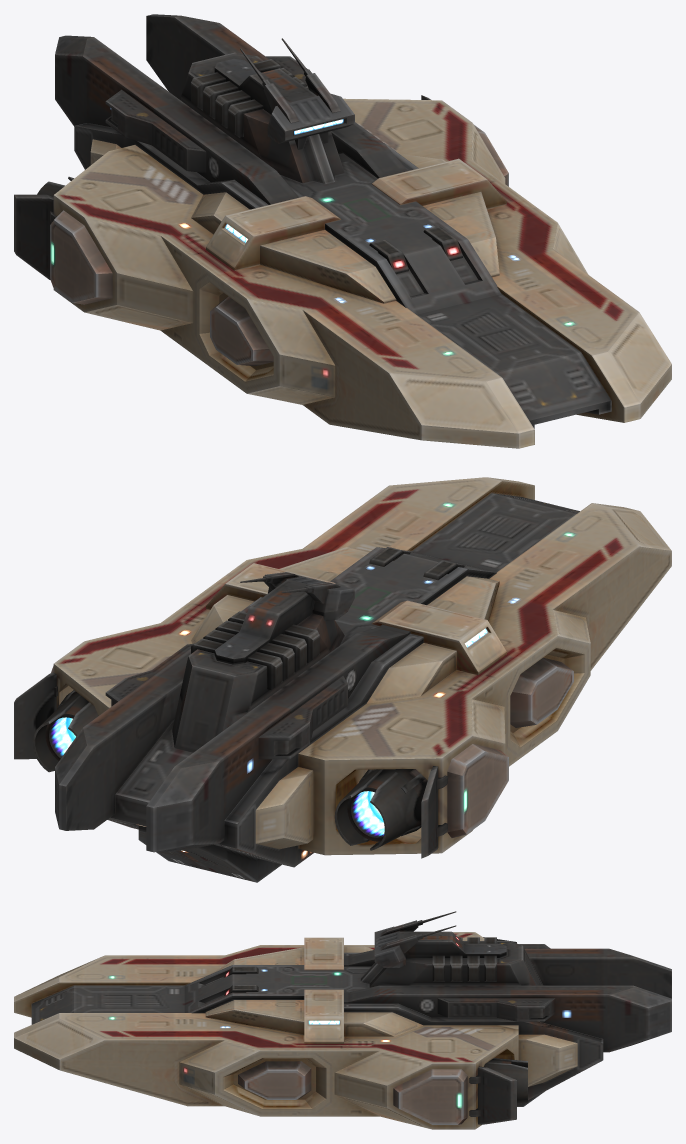
The model's file is shuttle-packet.glb.
3 renders of one model, top to bottom at view 1: azimuth 30°, elevation 25°; view 2: azimuth 150°, elevation 25°; view 3: azimuth 270°, elevation 25°, orthographic. The views are drawn at different scales.
Visible parts, largest first — view 1: hull; view 2: hull; view 3: hull.
Boxes of the visible parts, x1=… form: hull: x1=14, y1=14, x2=671, y2=448; hull: x1=14, y1=477, x2=671, y2=882; hull: x1=14, y1=911, x2=671, y2=1129.
Bounding box in the file's own units: 0.5033 × 0.2909 × 1.
Materials: 1 (1 with a texture image).
